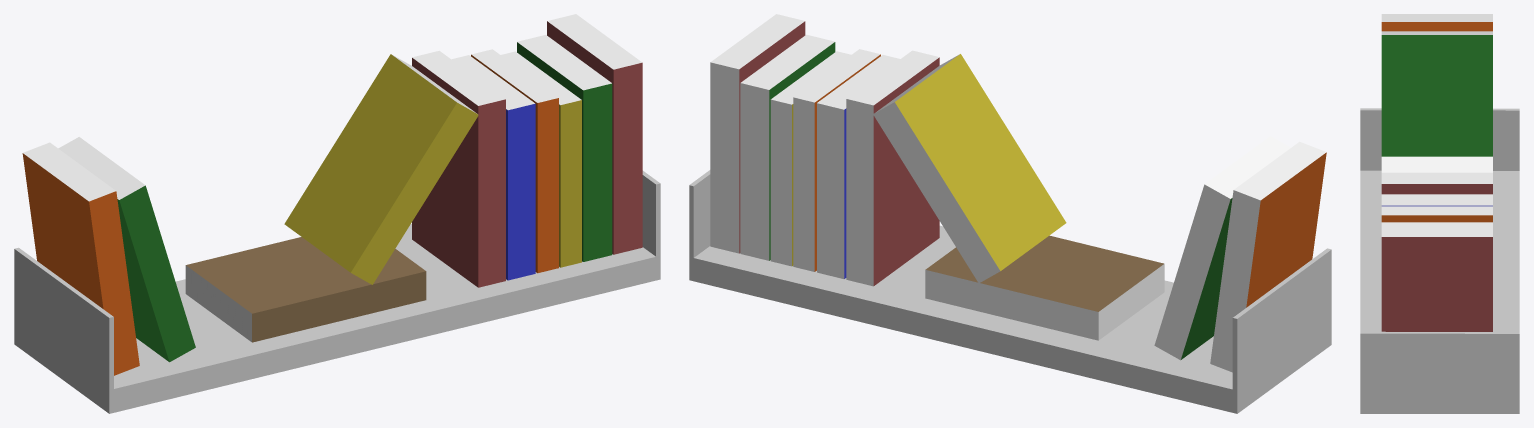
File: WallBookshelf02.fbx
3 views of the same model, side by side, from view 1: azimuth 30°, elevation 25°; view 2: azimuth 150°, elevation 25°; view 3: azimuth 270°, elevation 25° (orthographic). The views are drawn at different scales.
Visible parts, largest first — view 1: WallBookshelf02; view 2: WallBookshelf02; view 3: WallBookshelf02.
Boxes of the visible parts, left/top/right/bottom form: WallBookshelf02: left=14, top=14, right=660, bottom=413; WallBookshelf02: left=689, top=14, right=1331, bottom=413; WallBookshelf02: left=1360, top=14, right=1519, bottom=413.
Size of the model in its own units: 543 by 199 by 160.
